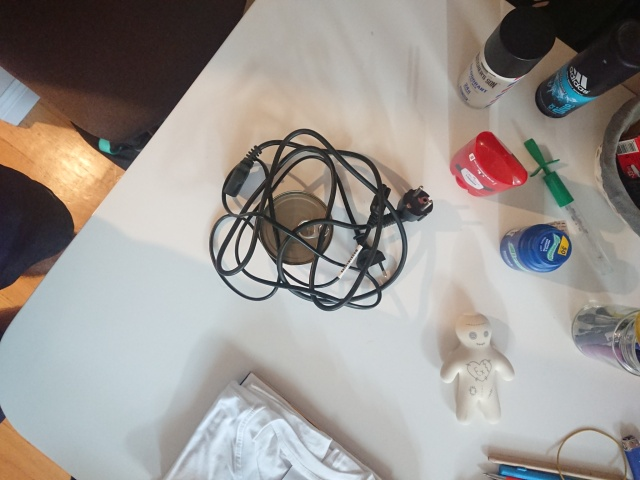Giana Tuna Salad Mexico 185g: (254, 188, 336, 267)
